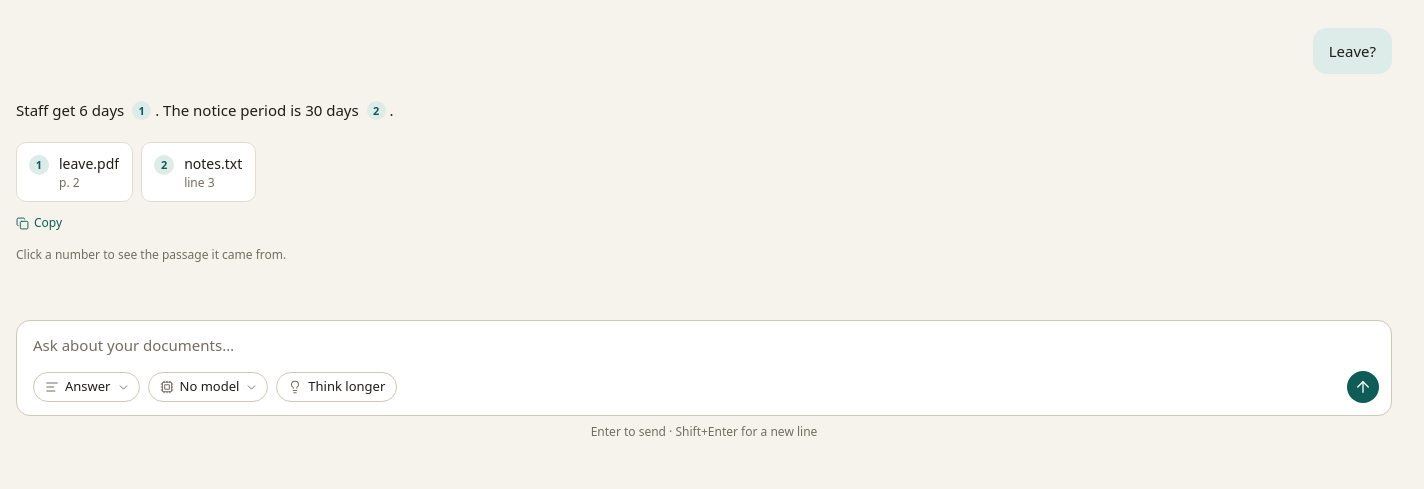
Test: checking a source from an answer › sends n and the sentence when a chip is clicked, and fills that chip
Click the button with class "cite" showing "2" at (376, 110), box [367,101,386,120]
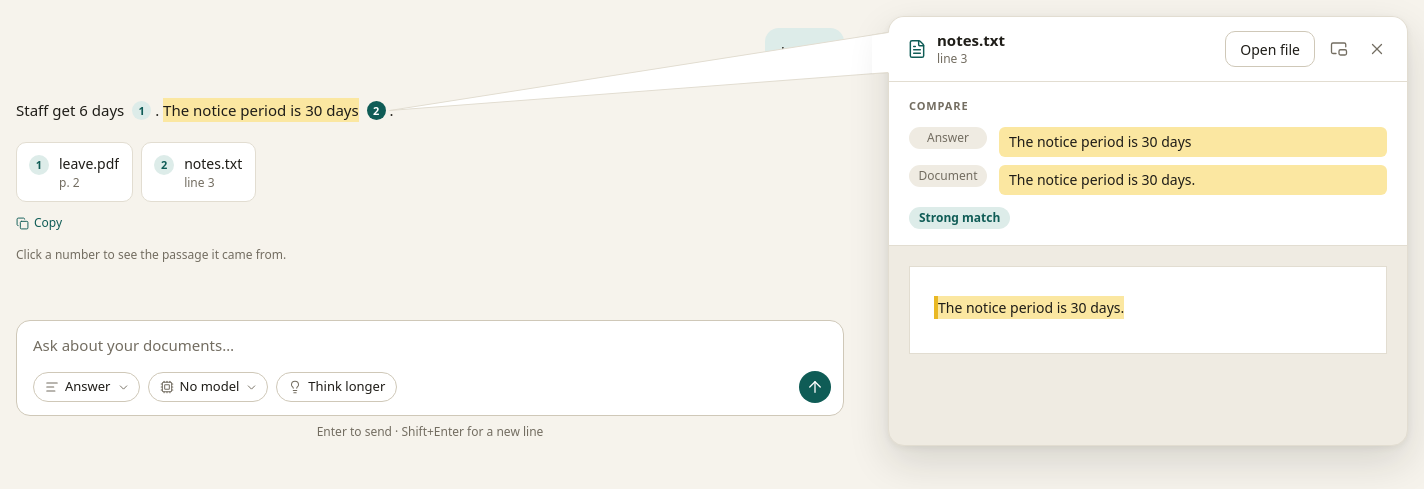
Expected: the text with class "answer-hit" reads "The notice period is 30 days", [163,100,359,120]
Expected: the 1st text "notes.txt" is shown, [937,30,1005,50]
